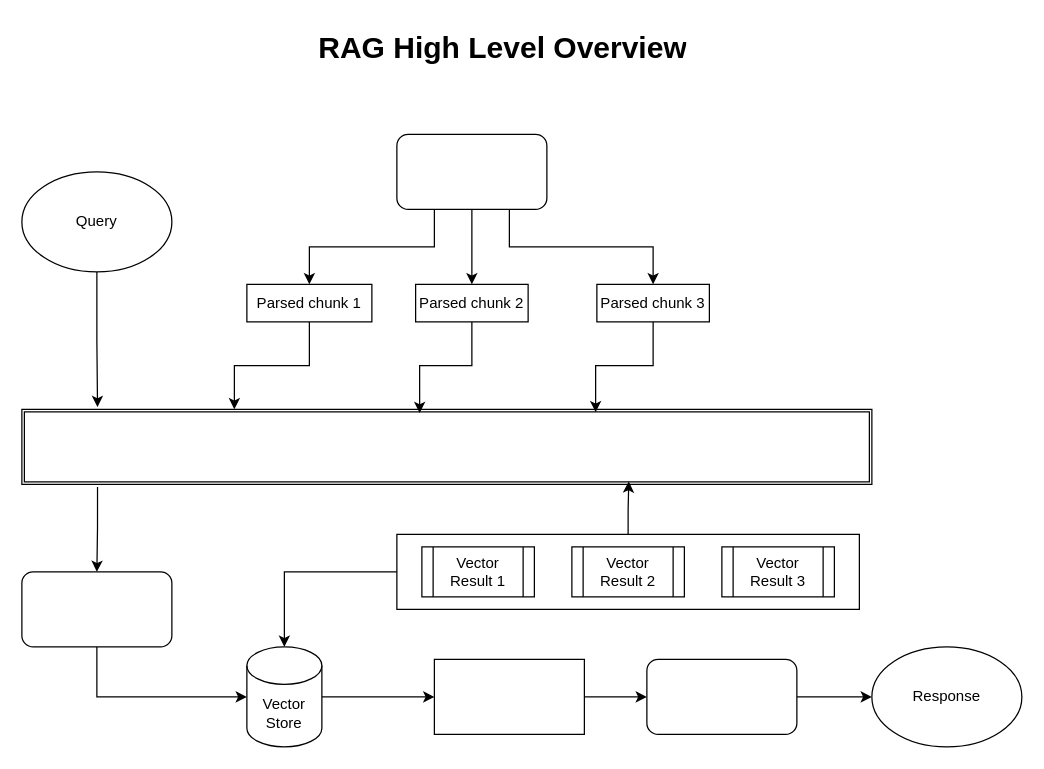
This 1044x769 diagram has some shape labels left out. The centre of each missing label's shape, as x and y in pixels:
Augmentation: the point at 508,696
Documents: the point at 471,171
Embedding / Vector Search: the point at 96,609
Embedding LLM Model: the point at 446,446
Gen LLM: the point at 721,696
